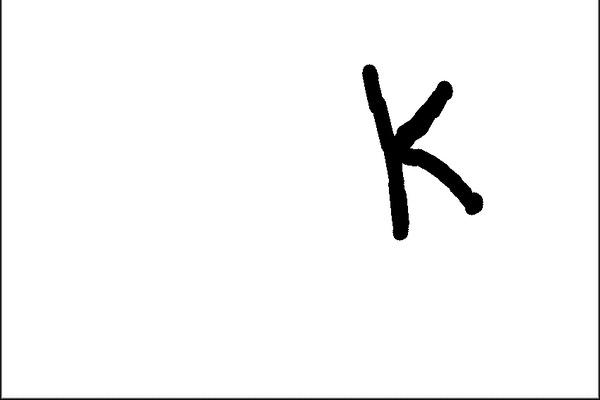K: (355, 56, 490, 245)
